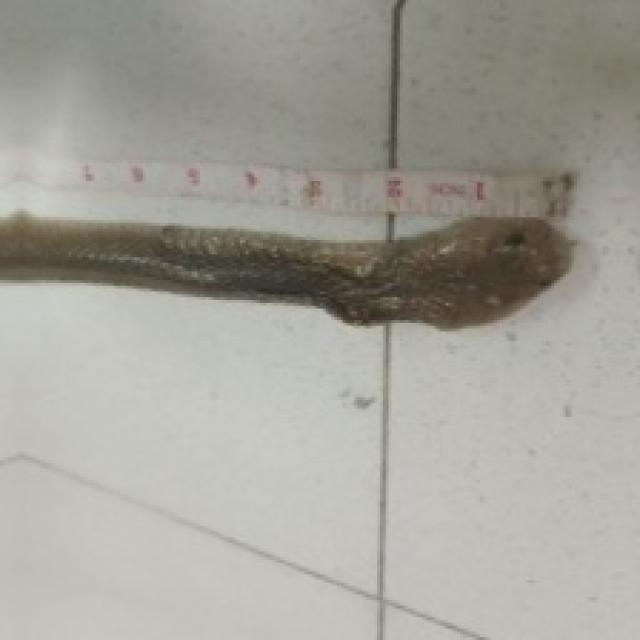philippine cobra: (0, 214, 569, 326)
